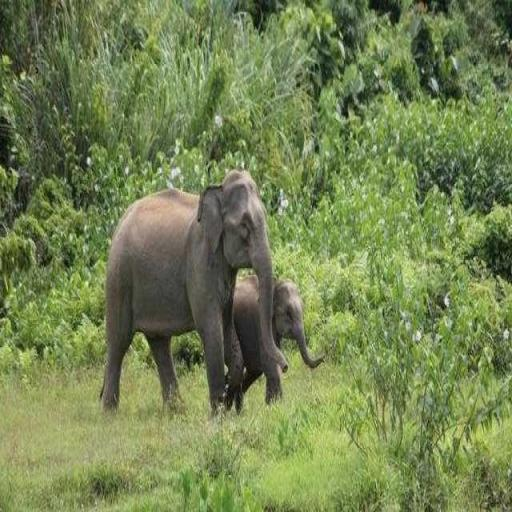Elephant: (98, 168, 286, 418), (223, 274, 324, 414)
